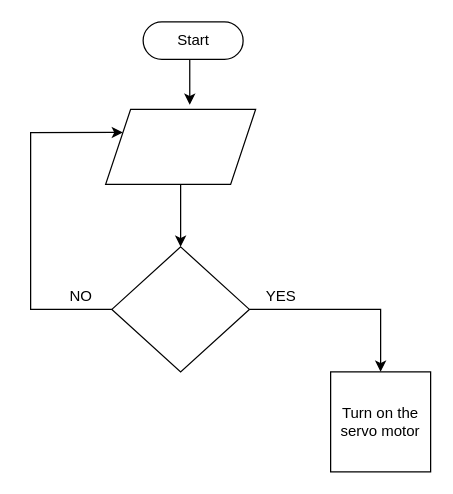
This 453x494 diagram has some shape labels left out. Each missing label, with the centre of its shape:
"If the presence is detected" belongs at [180,309].
"Read data (Earthquake sensor)" belongs at [180,146].
